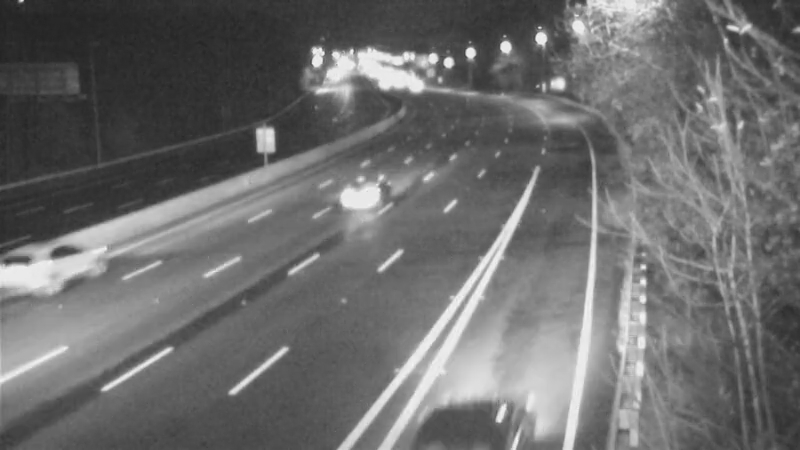vehicle: (409, 361, 519, 450), (323, 154, 403, 234), (1, 230, 71, 310)
